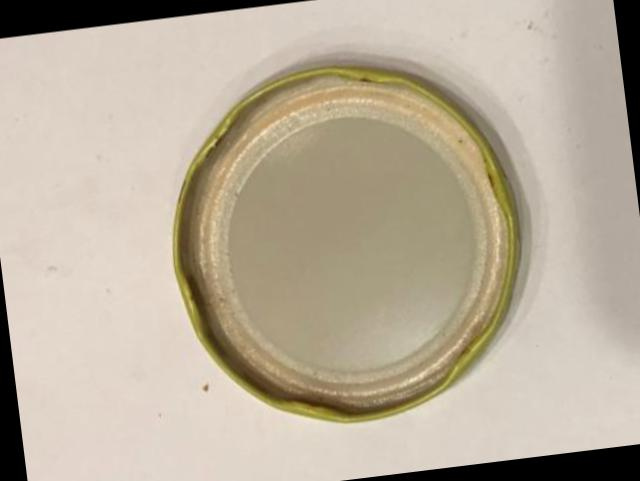metal: (172, 69, 516, 423)
